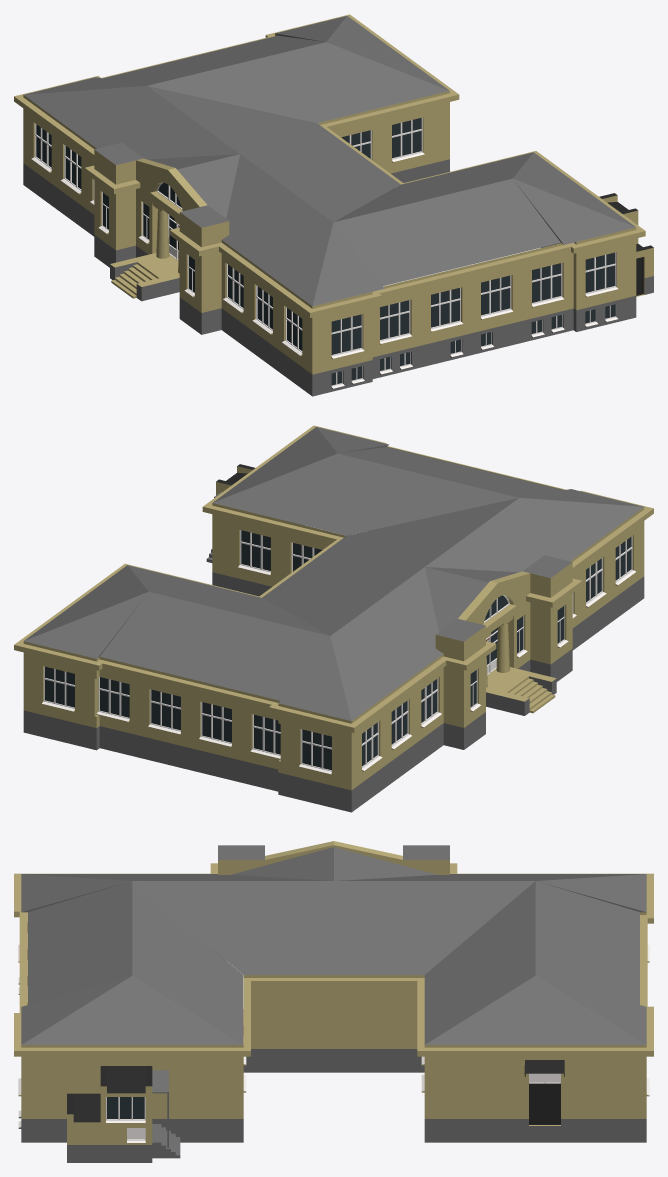
The model's file is Kitchen.glb.
3 views of the same model, one above another, from view 1: azimuth 30°, elevation 25°; view 2: azimuth 150°, elevation 25°; view 3: azimuth 270°, elevation 25° (orthographic). The views are drawn at different scales.
Visible parts, largest first — view 1: СТ_кровля, СТ, СТ_Окно_2х3.015, СТ_Окно_2х3.019, СТ_ступени, СТ_Окно_2х3.014, СТ_Окно_2х3.002, Ст_пристройка, СТ_Окно_2х3.018, СТ_Окно_2х3.017, Ст_Колонна, СТ_Окно_2х3.020; view 2: СТ_кровля, СТ, СТ_Окно_2х3.015, СТ_Окно_2х3.019, СТ_ступени, СТ_Окно_2х3.014, СТ_Окно_2х3.002, СТ_Окно_2х3.020, Ст_Колонна, СТ_окно полукруг; view 3: СТ_кровля, СТ, Ст_пристройка, СТ_Окно_2х3.001, СТ_Окно_2х3.004, СТ_ступени.001, ЛК_козырек.004, СТ_козырек.
Boxes of the visible parts, x1,y1,x2,y2 form: СТ_кровля: (24, 16, 635, 306); СТ: (14, 14, 645, 396); СТ_Окно_2х3.015: (380, 263, 564, 344); СТ_Окно_2х3.019: (31, 123, 302, 356); СТ_ступени: (110, 253, 179, 301); СТ_Окно_2х3.014: (331, 252, 618, 359); СТ_Окно_2х3.002: (341, 117, 424, 162); Ст_пристройка: (599, 193, 653, 296); СТ_Окно_2х3.018: (331, 304, 618, 389); СТ_Окно_2х3.017: (380, 314, 564, 375); Ст_Колонна: (152, 203, 179, 273); СТ_Окно_2х3.020: (98, 191, 194, 297); СТ_кровля: (24, 427, 643, 720); СТ: (14, 425, 653, 812); СТ_Окно_2х3.015: (96, 677, 280, 759); СТ_Окно_2х3.019: (362, 536, 636, 771); СТ_ступени: (486, 667, 556, 715); СТ_Окно_2х3.014: (41, 666, 331, 774); СТ_Окно_2х3.002: (238, 530, 322, 575); СТ_Окно_2х3.020: (470, 604, 568, 711); Ст_Колонна: (486, 616, 513, 687); СТ_окно полукруг: (483, 595, 516, 629); СТ_кровля: (21, 845, 646, 1044); СТ: (14, 841, 653, 1142); Ст_пристройка: (67, 1066, 152, 1162); СТ_Окно_2х3.001: (529, 1073, 560, 1125); СТ_Окно_2х3.004: (106, 1097, 145, 1123); СТ_ступени.001: (152, 1124, 180, 1158); ЛК_козырек.004: (524, 1060, 564, 1076); СТ_козырек: (152, 1070, 168, 1147).
Bounding box in the file's own units: 6.47 × 1.82 × 8.08.
